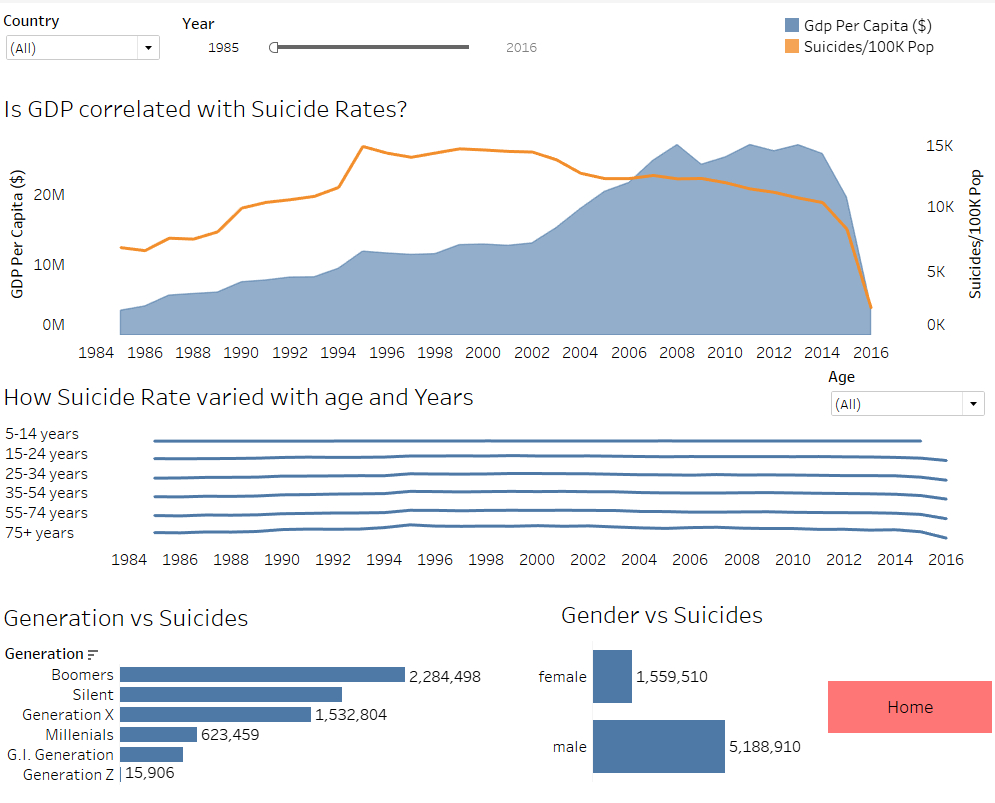

The page's visual inventory and layout, read from the dashboard file:
{"tool":"tableau","page":{"name":"Detailed Analysis","canvas":[1000,800],"ordinal":1},"visuals":[{"type":"filter","title":"Is GDP correlated with Suicide Rates?","param":"[federated.0rrtbf01b6g1ng1go5aea0veluox].[none:country:nk]","box":[5,7,160,53]},{"type":"filter","title":"Is GDP correlated with Suicide Rates?","param":"[federated.0rrtbf01b6g1ng1go5aea0veluox].[none:year:qk]","box":[184,10,383,65]},{"type":"legend","title":"Is GDP correlated with Suicide Rates?","param":"[federated.0rrtbf01b6g1ng1go5aea0veluox].[:Measure Names]","box":[784,12,206,112]},{"type":"worksheet","title":"Is GDP correlated with Suicide Rates?","mark":"Area","rows":["gdp_per_capita ($)","suicides/100k pop"],"cols":["year"],"box":[1,85,993,277]},{"type":"filter","title":"How Suicide Rate varied with age and Years","param":"[federated.0rrtbf01b6g1ng1go5aea0veluox].[none:age:nk]","box":[830,363,160,53]},{"type":"worksheet","title":"How Suicide Rate varied with age and Years","mark":"Automatic","rows":["age","suicides/100k pop"],"cols":["year"],"box":[1,373,998,196]},{"type":"worksheet","title":"Gender vs Suicides","mark":"Automatic","rows":["sex"],"cols":["suicides_no"],"box":[514,591,300,204]},{"type":"worksheet","title":"Generation vs Suicides","mark":"Automatic","rows":["generation"],"cols":["suicides_no"],"box":[1,594,500,204]},{"type":"dashboard-object","box":[830,678,164,52]}]}

Visuals, with their boxes in screenshot pixels (x1, y1, x2, y2), scaled from the page's 1000x800 canvas onto the 995x803 screenshot:
"Is GDP correlated with Suicide Rates?" filter: bbox=(5, 7, 164, 60)
"Is GDP correlated with Suicide Rates?" filter: bbox=(183, 10, 564, 75)
"Is GDP correlated with Suicide Rates?" legend: bbox=(780, 12, 985, 124)
"Is GDP correlated with Suicide Rates?" worksheet (Area marks): bbox=(1, 85, 989, 363)
"How Suicide Rate varied with age and Years" filter: bbox=(826, 364, 985, 418)
"How Suicide Rate varied with age and Years" worksheet: bbox=(1, 374, 994, 571)
"Gender vs Suicides" worksheet: bbox=(511, 593, 810, 798)
"Generation vs Suicides" worksheet: bbox=(1, 596, 498, 801)
dashboard-object: bbox=(826, 681, 989, 733)
